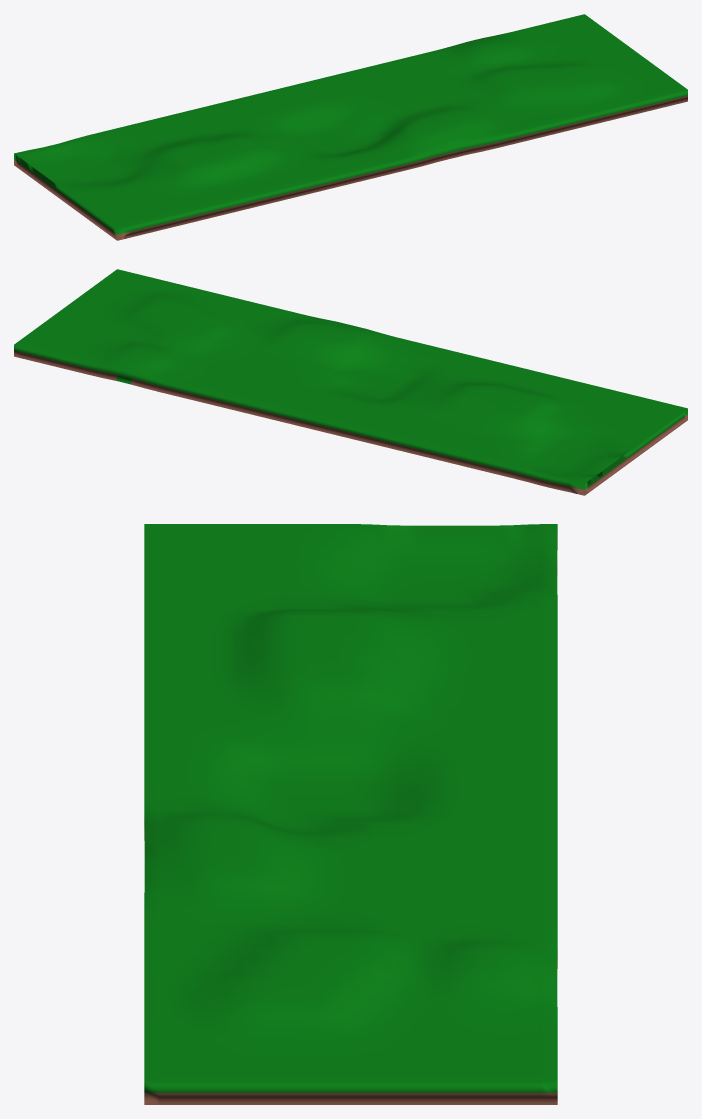
The model's file is GrassPlane0.fbx.
The picture shows the model from 3 angles, top to bottom: view 1: azimuth 30°, elevation 25°; view 2: azimuth 150°, elevation 25°; view 3: azimuth 270°, elevation 25°; orthographic projection. The views are drawn at different scales.
Visible parts, largest first — view 1: Cube; view 2: Cube; view 3: Cube.
Part boxes in pixels (left/top/right/bottom): Cube: left=14, top=14, right=687, bottom=240; Cube: left=14, top=269, right=687, bottom=495; Cube: left=144, top=524, right=557, bottom=1104.
Size of the model in its own units: 1612 by 71.71 by 505.
